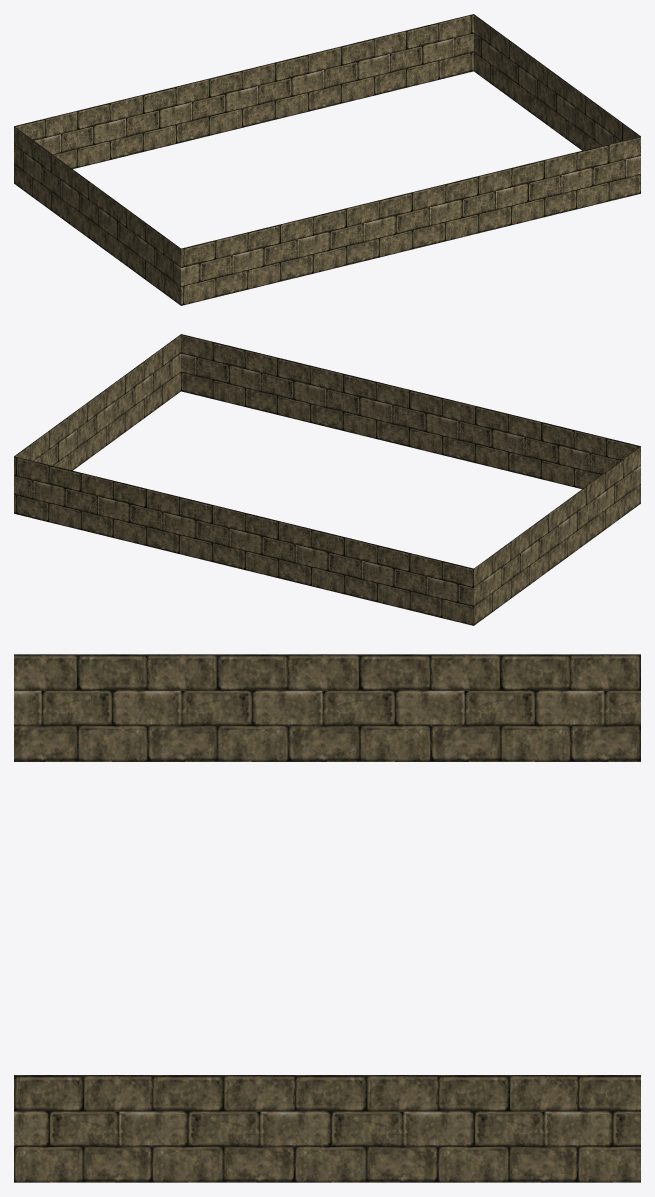
File: OVERHILL_A_01_LINE461.fbx
3 views of the same model, one above another, from view 1: azimuth 30°, elevation 25°; view 2: azimuth 150°, elevation 25°; view 3: azimuth 270°, elevation 25° (orthographic). The views are drawn at different scales.
Visible parts, largest first — view 1: OVERHILL_A_01_LINE461; view 2: OVERHILL_A_01_LINE461; view 3: OVERHILL_A_01_LINE461.
Boxes of the visible parts, <box> form: OVERHILL_A_01_LINE461: <box>14,14,640,305</box>; OVERHILL_A_01_LINE461: <box>14,334,640,625</box>; OVERHILL_A_01_LINE461: <box>14,654,640,1182</box>.
Bounding box in the file's own units: 233927 × 27911 × 147276.
1 material, 1 textured.
